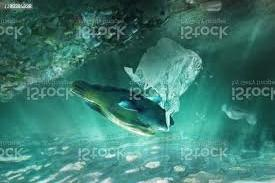Trash: (127, 38, 212, 97)
